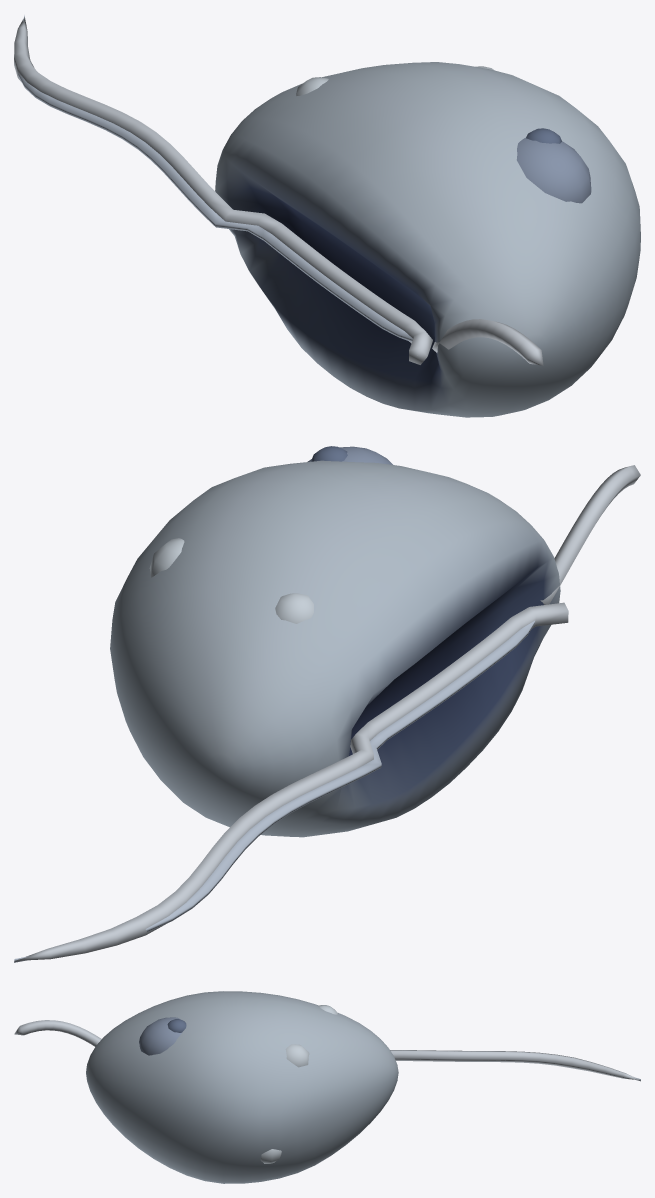
Rendered from Malawimonas.fbx.
The picture shows the model from 3 angles, top to bottom: view 1: azimuth 30°, elevation 25°; view 2: azimuth 150°, elevation 25°; view 3: azimuth 270°, elevation 25°; orthographic projection. The views are drawn at different scales.
Visible parts, largest first — view 1: Malawimonas; view 2: Malawimonas; view 3: Malawimonas.
Part boxes in pixels (x1=…): Malawimonas: x1=14, y1=15, x2=640, y2=417; Malawimonas: x1=14, y1=446, x2=640, y2=962; Malawimonas: x1=14, y1=991, x2=640, y2=1183.
Bounding box in the file's own units: 0.5338 × 0.4742 × 1.6.
